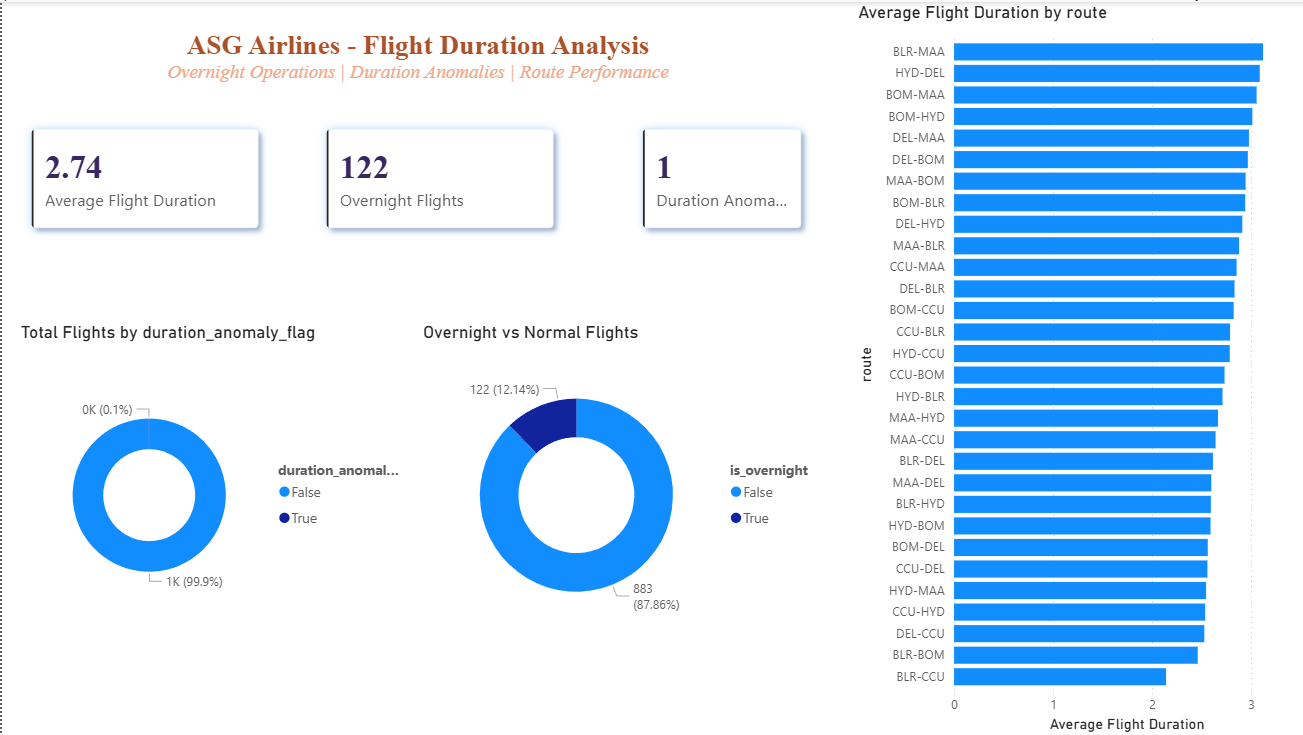

The dashboard page shown, as its layout file describes it:
{"tool":"powerbi","page":{"name":"Flight Duration Analysis","canvas":[1280,720],"ordinal":1},"visuals":[{"type":"cardVisual","fields":{"Data":["dim_bookings.Average Flight Duration"]},"box":[0,95,280,155],"z":0},{"type":"cardVisual","fields":{"Data":["dim_bookings.Overnight Flights"]},"box":[288.8,95,280,155],"z":1000},{"type":"cardVisual","fields":{"Data":["dim_bookings.Duration Anomalies"]},"box":[597.5,95,213.8,155],"z":2000},{"type":"clusteredBarChart","fields":{"Category":["fact_flights.route"],"Y":["dim_bookings.Average Flight Duration"]},"box":[833.3,0,446.7,720],"z":3000},{"type":"donutChart","title":"Overnight vs Normal Flights","fields":{"Category":["fact_flights.is_overnight"],"Y":["dim_bookings.Total Flights"]},"box":[407.5,312.5,403.8,320],"z":4000},{"type":"donutChart","fields":{"Category":["fact_flights.duration_anomaly_flag"],"Y":["dim_bookings.Total Flights"]},"box":[13.8,312.5,382.5,320],"z":5000},{"type":"textbox","box":[23.8,22.5,767.5,72.5],"z":5001}]}

Visuals, with their boxes in screenshot pixels (x1, y1, x2, y2), scaled from the page's 1280x720 canvas onto the 1303x735 screenshot:
cardVisual - dim_bookings.Average Flight Duration: crop(0, 97, 285, 255)
cardVisual - dim_bookings.Overnight Flights: crop(294, 97, 579, 255)
cardVisual - dim_bookings.Duration Anomalies: crop(608, 97, 826, 255)
clusteredBarChart - fact_flights.route x dim_bookings.Average Flight Duration: crop(848, 0, 1302, 734)
"Overnight vs Normal Flights" donutChart: crop(415, 319, 826, 646)
donutChart - fact_flights.duration_anomaly_flag x dim_bookings.Total Flights: crop(14, 319, 403, 646)
textbox: crop(24, 23, 806, 97)
